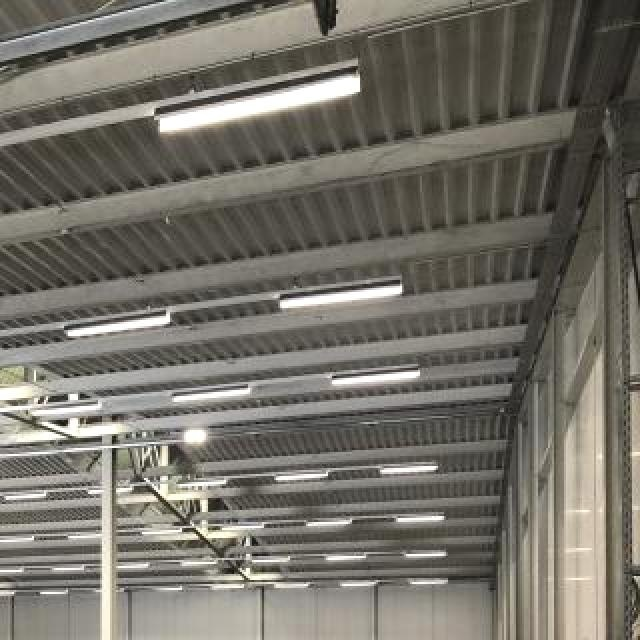fluorescent tube: (138, 53, 375, 147), (269, 273, 409, 320), (60, 305, 178, 342), (167, 380, 257, 411), (325, 364, 427, 391), (369, 454, 451, 483), (18, 394, 107, 414), (267, 467, 342, 485), (140, 521, 191, 543), (234, 551, 295, 569), (316, 549, 376, 567), (0, 480, 48, 502), (171, 474, 233, 491), (386, 513, 446, 530), (44, 561, 91, 580), (173, 556, 225, 573), (85, 484, 140, 500), (334, 579, 384, 596), (216, 521, 268, 535), (396, 550, 455, 562), (303, 518, 356, 531), (110, 557, 155, 572), (204, 583, 250, 597), (36, 585, 76, 601), (67, 530, 105, 546), (271, 582, 317, 595), (149, 585, 189, 599), (400, 579, 455, 589), (0, 566, 30, 580), (0, 534, 40, 544), (0, 588, 18, 600)
